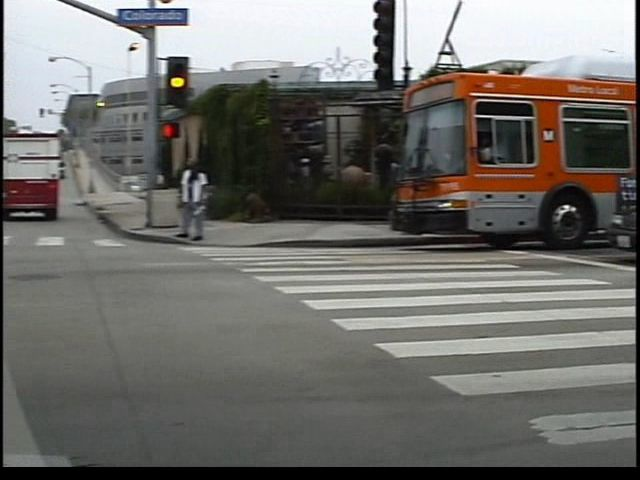person: (187, 155, 222, 246)
